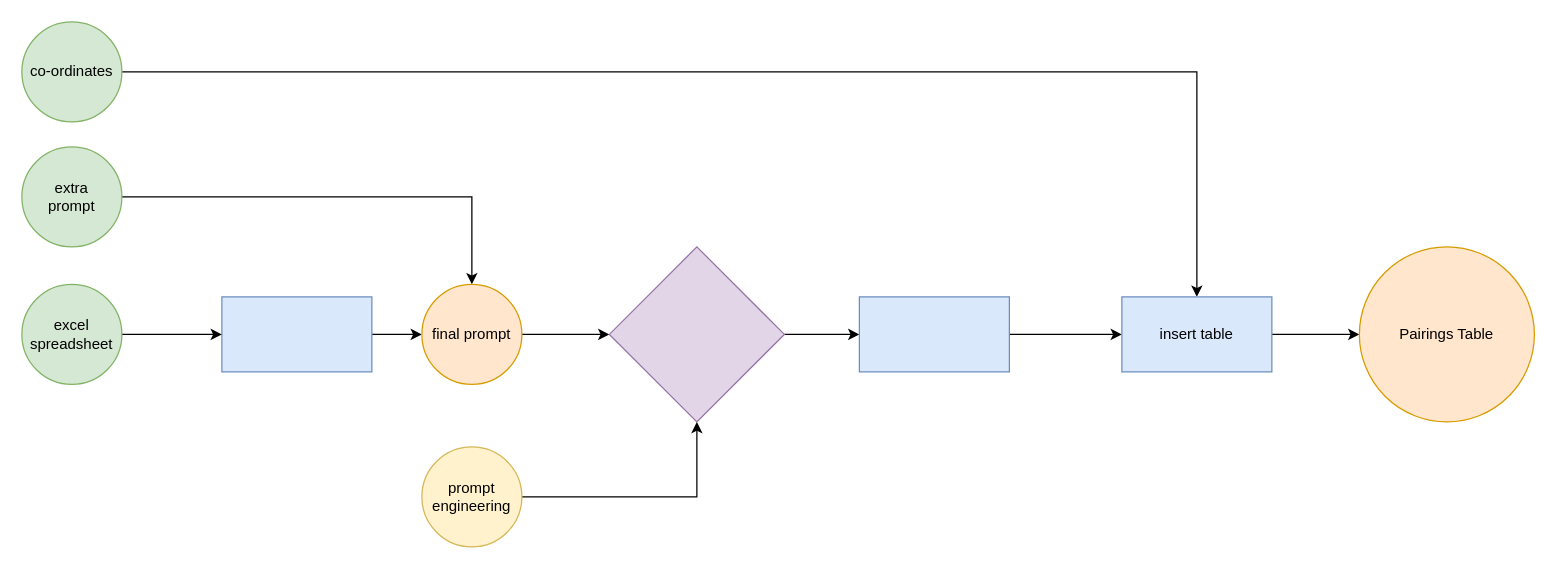
This 1556x569 diagram has some shape labels left out. Here are the shapes that lost their labels. From the top down, the box of each, then its label:
(221, 296, 372, 372): convert to string
(608, 246, 784, 422): openai API
(858, 296, 1009, 372): convert to 2D array
